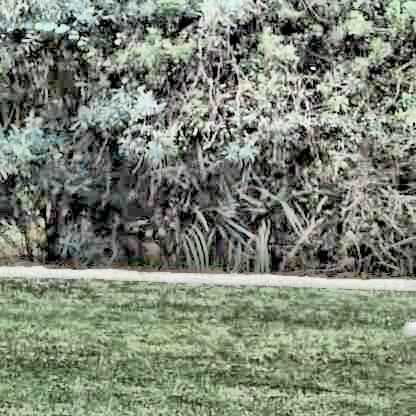golfball: (402, 314, 414, 332)
